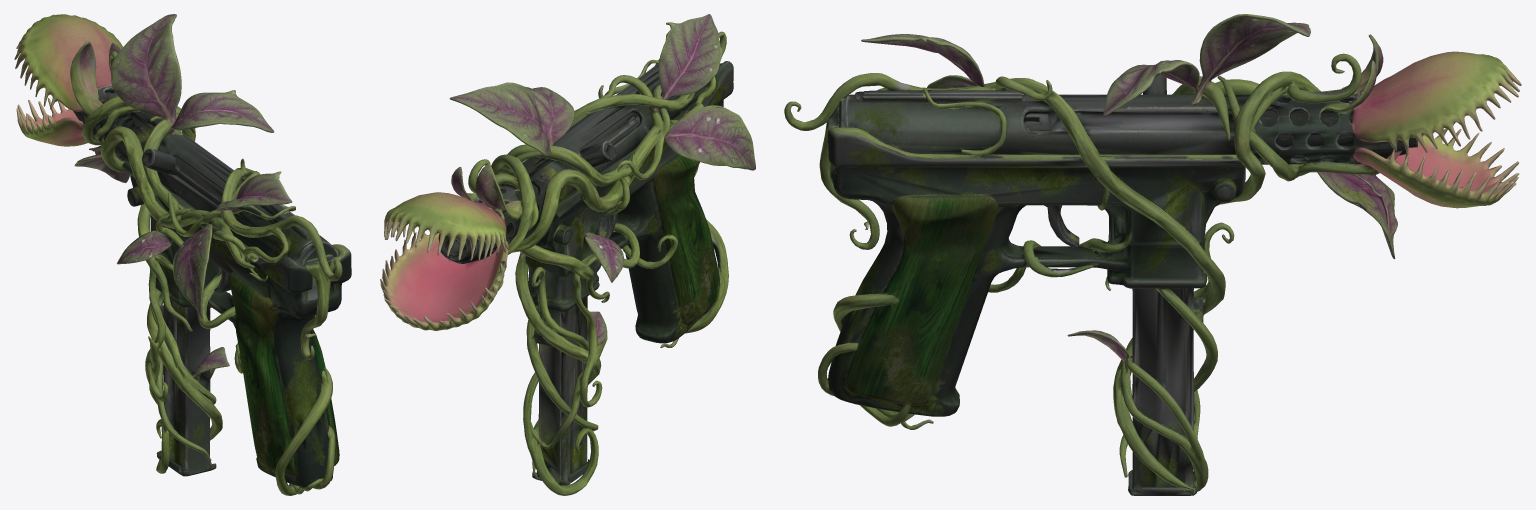
The model's file is tec9_sarmasik.glb.
3 views of the same model, side by side, from view 1: azimuth 30°, elevation 25°; view 2: azimuth 150°, elevation 25°; view 3: azimuth 270°, elevation 25° (orthographic). The views are drawn at different scales.
Visible parts, largest first — view 1: govde; view 2: govde; view 3: govde.
Part boxes in pixels (left/top/right/bottom): govde: left=14, top=14, right=351, bottom=495; govde: left=380, top=14, right=755, bottom=495; govde: left=784, top=14, right=1521, bottom=495.
Bounding box in the file's own units: 0.0903 × 0.2316 × 0.3099.
1 material, 1 textured.
